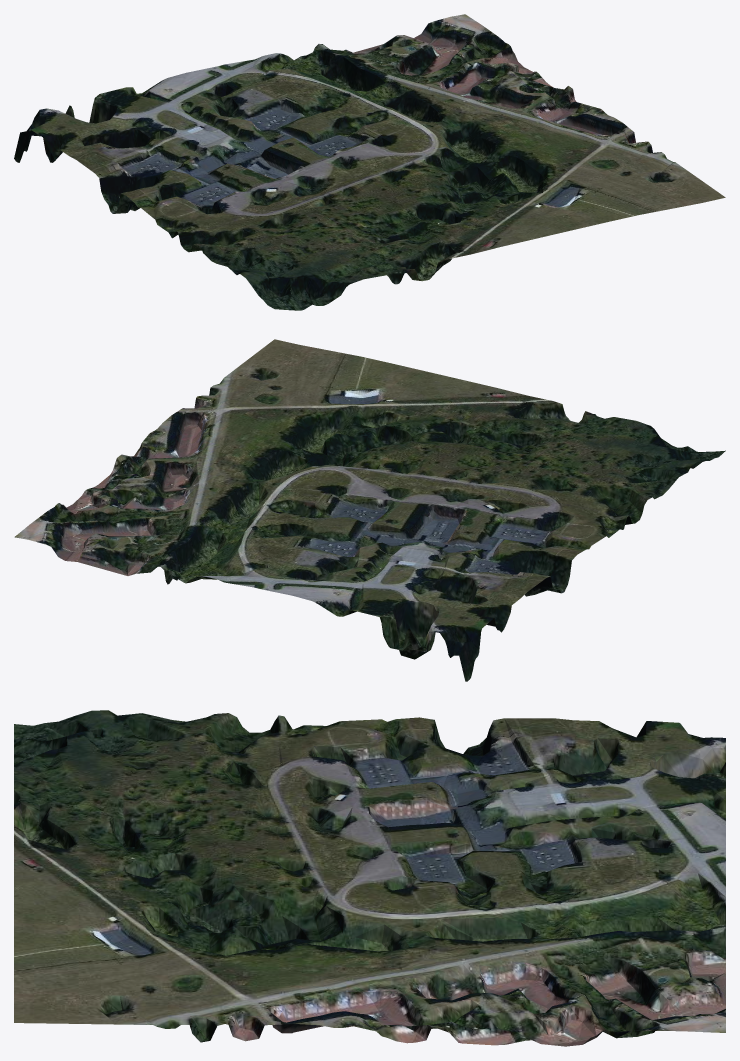
Rendered from map_13_2042_3447.dae.
3 renders of one model, top to bottom at view 1: azimuth 30°, elevation 25°; view 2: azimuth 150°, elevation 25°; view 3: azimuth 270°, elevation 25°, orthographic. The views are drawn at different scales.
Visible parts, largest first — view 1: Ter0; view 2: Ter0; view 3: Ter0.
Part boxes in pixels (<box>): Ter0: <box>14,14,725,310</box>; Ter0: <box>14,339,725,681</box>; Ter0: <box>14,710,725,1046</box>.
Bounding box in the file's own units: 256 × 256 × 27.93.
Materials: 2 (2 with a texture image).
